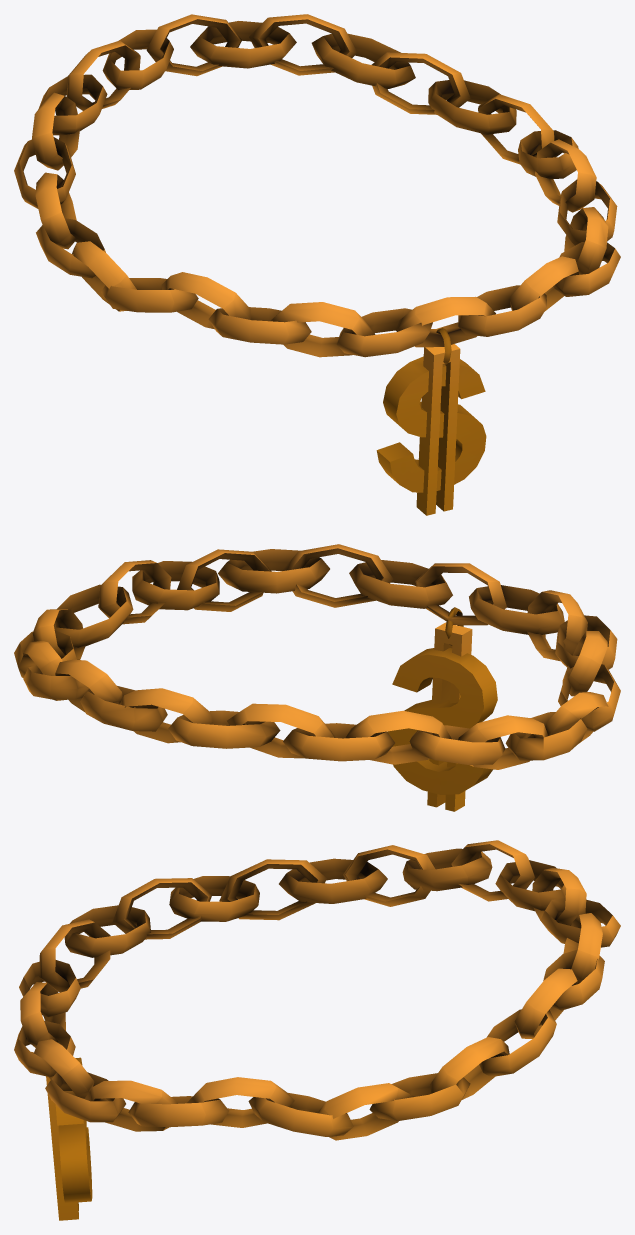
File: Belt_Chain_Gold.gltf
3 views of the same model, one above another, from view 1: azimuth 30°, elevation 25°; view 2: azimuth 150°, elevation 25°; view 3: azimuth 270°, elevation 25° (orthographic). The views are drawn at different scales.
Parts seen in each view (by area): view 1: Belt_Chain_Gold; view 2: Belt_Chain_Gold; view 3: Belt_Chain_Gold.
Boxes of the visible parts, x1,y1,x2,y2 form: Belt_Chain_Gold: [14, 14, 620, 515]; Belt_Chain_Gold: [14, 544, 620, 811]; Belt_Chain_Gold: [14, 840, 620, 1220].
Size of the model in its own units: 0.8833 by 0.4915 by 0.9044.
1 material, 1 textured.
